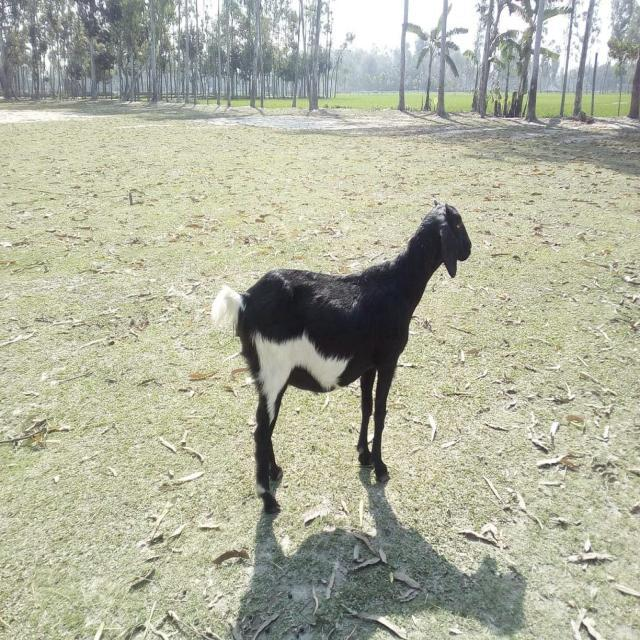Goat: (211, 198, 473, 514)
